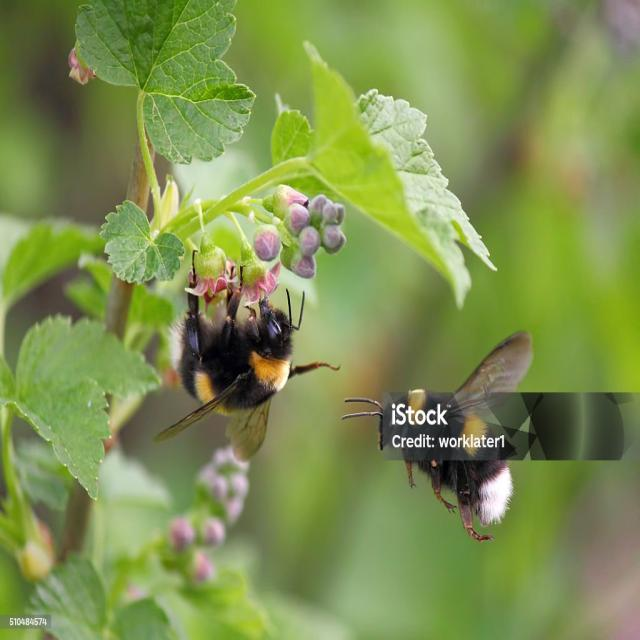bee: (153, 249, 344, 462), (346, 330, 536, 544)
